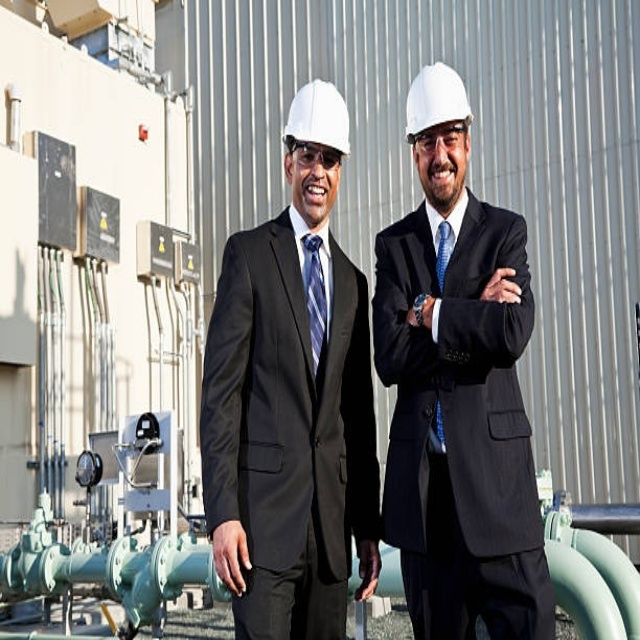Gafas: (287, 138, 343, 170), (413, 124, 467, 153)
Sin_guantes: (205, 518, 250, 598), (350, 535, 386, 605), (479, 267, 525, 309)
Sin_mascara: (302, 177, 333, 218), (426, 163, 459, 195)
